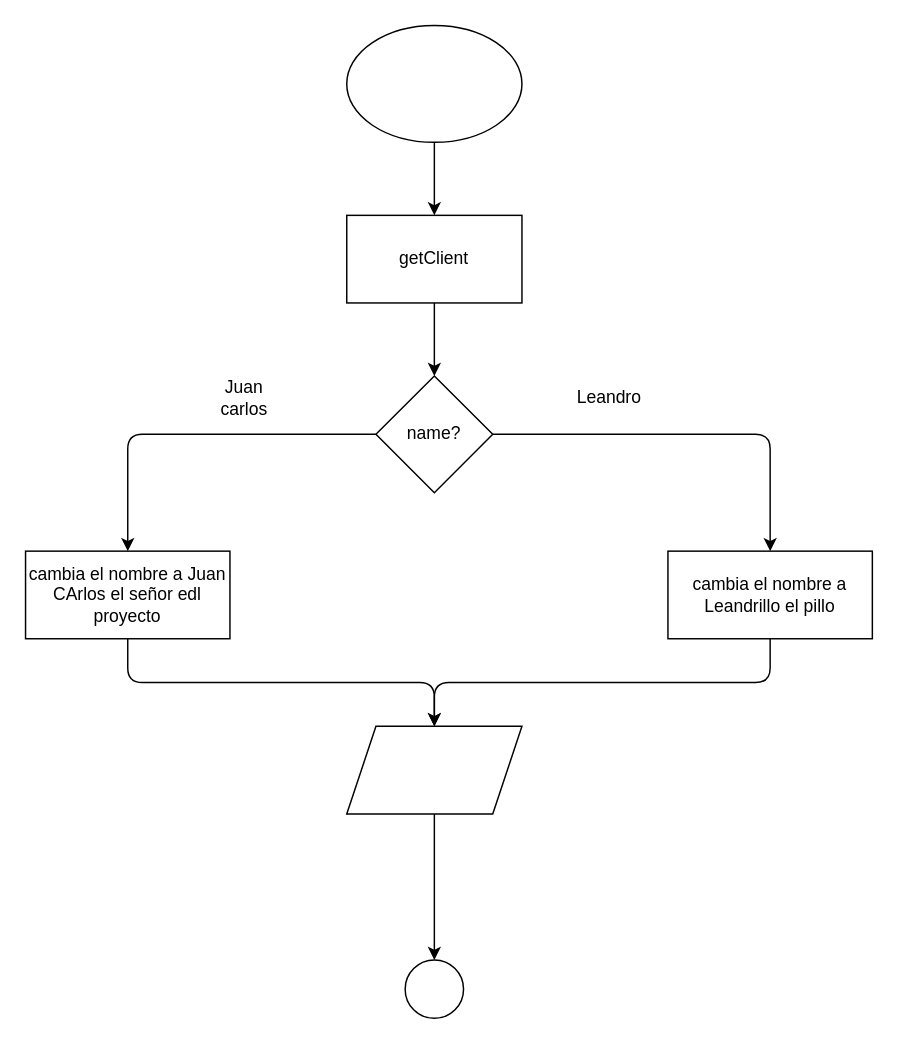
Some shapes in this 898 by 1044 pixel diagram are drawn without their labels. The centre of each missing label's shape, as x and y in pixels:
"event" goes at (433,83).
"return client" goes at (433,769).
